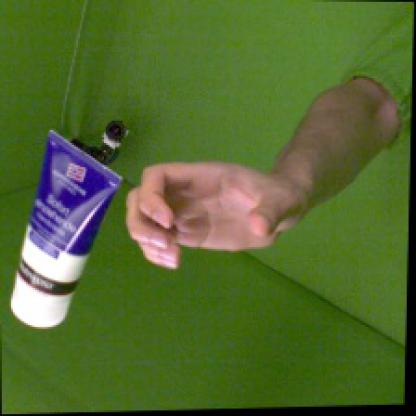Hand: (126, 159, 308, 269)
